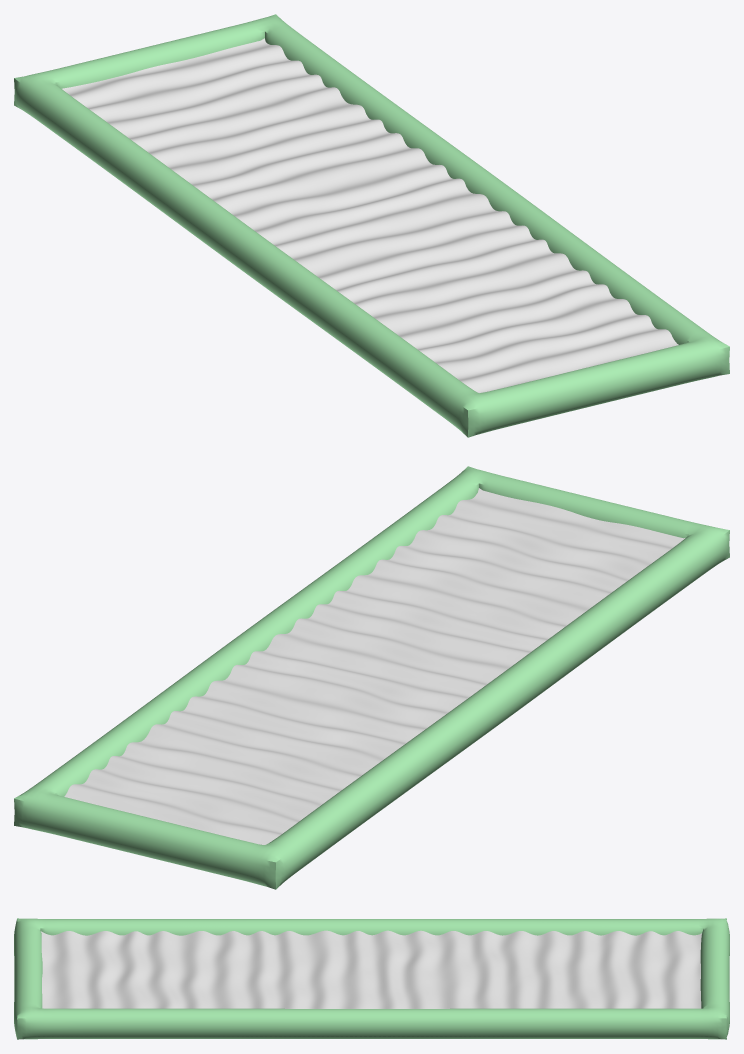
Rendered from Water&Cell1By3.fbx.
3 renders of one model, top to bottom at view 1: azimuth 30°, elevation 25°; view 2: azimuth 150°, elevation 25°; view 3: azimuth 270°, elevation 25°, orthographic. The views are drawn at different scales.
Parts seen in each view (by area): view 1: Plane, Support1*3; view 2: Plane, Support1*3; view 3: Plane, Support1*3.
Boxes of the visible parts, left/top/right/bottom form: Plane: left=62, top=38, right=678, bottom=392; Support1*3: left=14, top=14, right=729, bottom=437; Plane: left=64, top=488, right=685, bottom=844; Support1*3: left=14, top=466, right=729, bottom=889; Plane: left=41, top=930, right=701, bottom=1008; Support1*3: left=14, top=918, right=729, bottom=1039.
Size of the model in its own units: 1027 by 130 by 3026.
